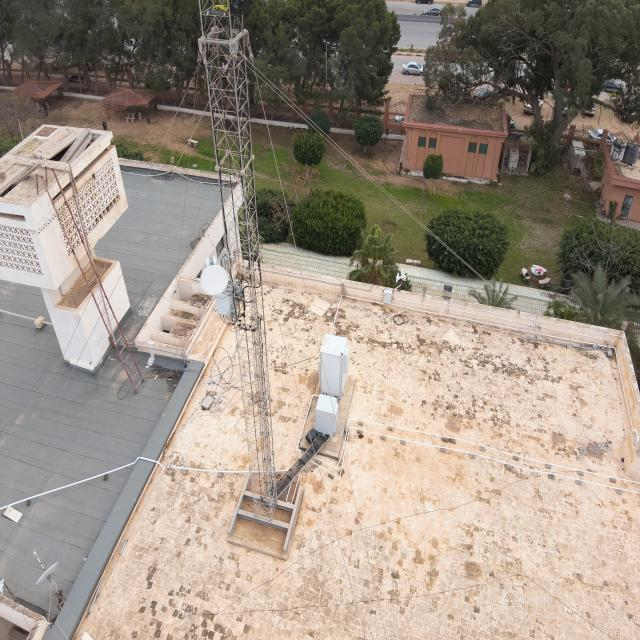microware-dish: (198, 255, 230, 296)
power-box: (216, 279, 238, 317)
